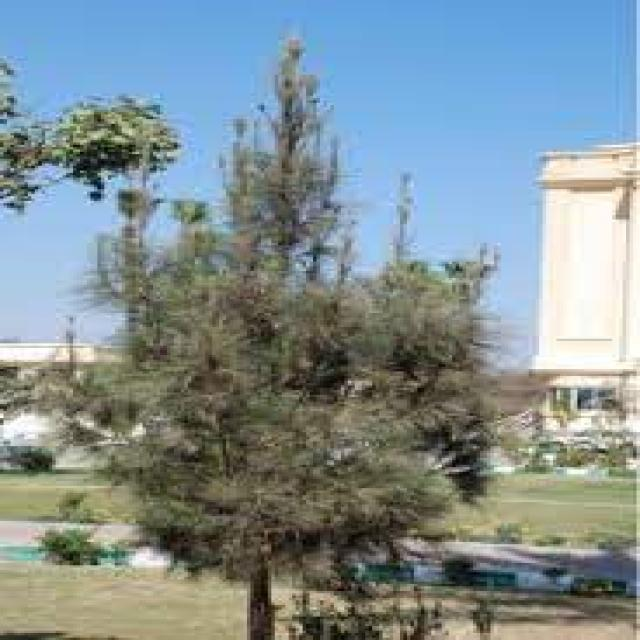sanaoubar: (129, 30, 470, 627)
